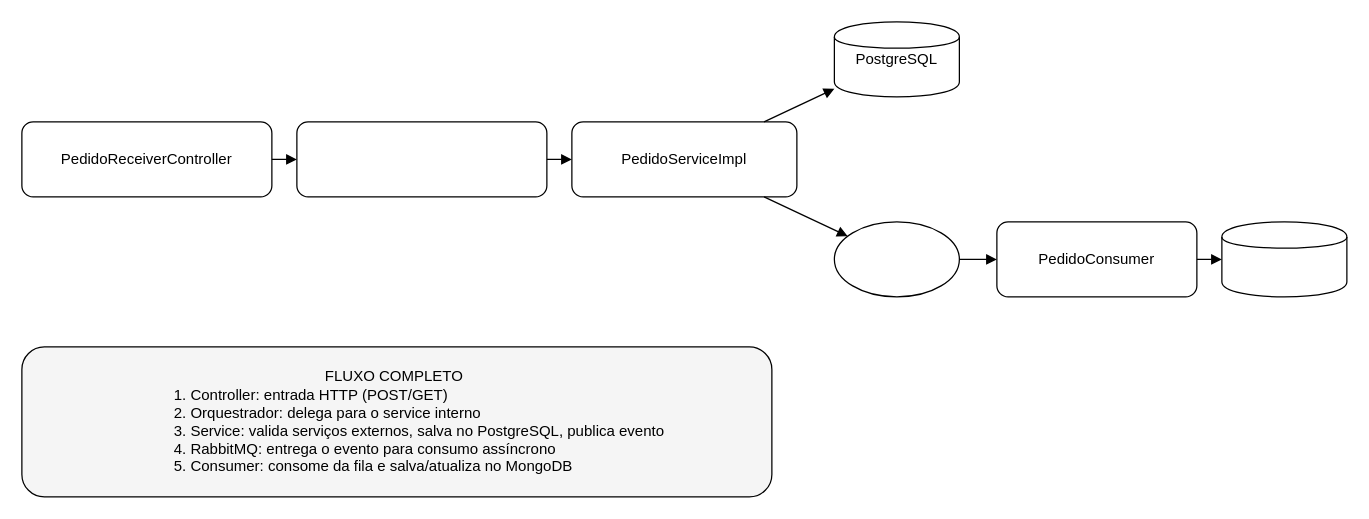
Some shapes in this 1369 by 519 pixel diagram are drawn without their labels. Each missing label, with the centre of its shape:
MongoDB: (x=1284, y=259)
PedidoOrquestradorService: (x=421, y=159)
RabbitMQ: (x=896, y=259)
